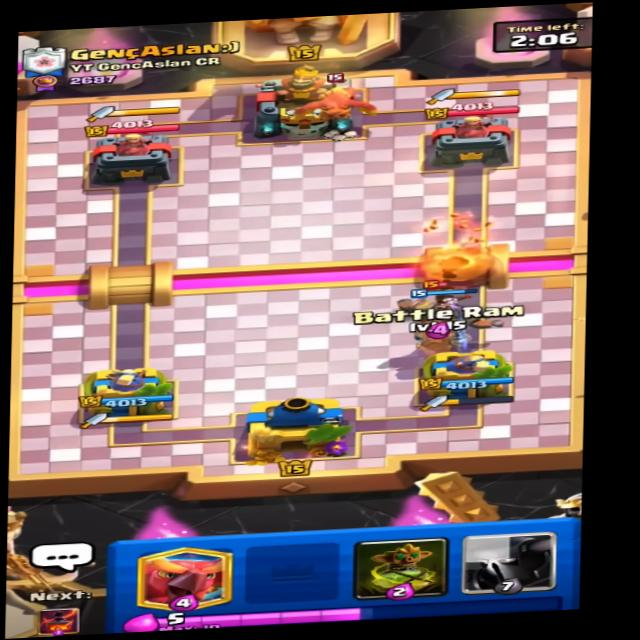bandit: (426, 274, 487, 309)
phoenix: (268, 68, 399, 122)
